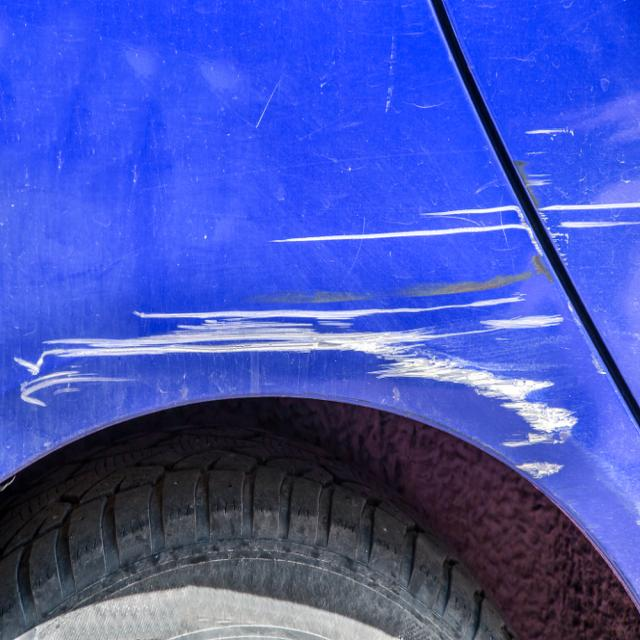scratch: (15, 206, 582, 479), (516, 126, 640, 268)
